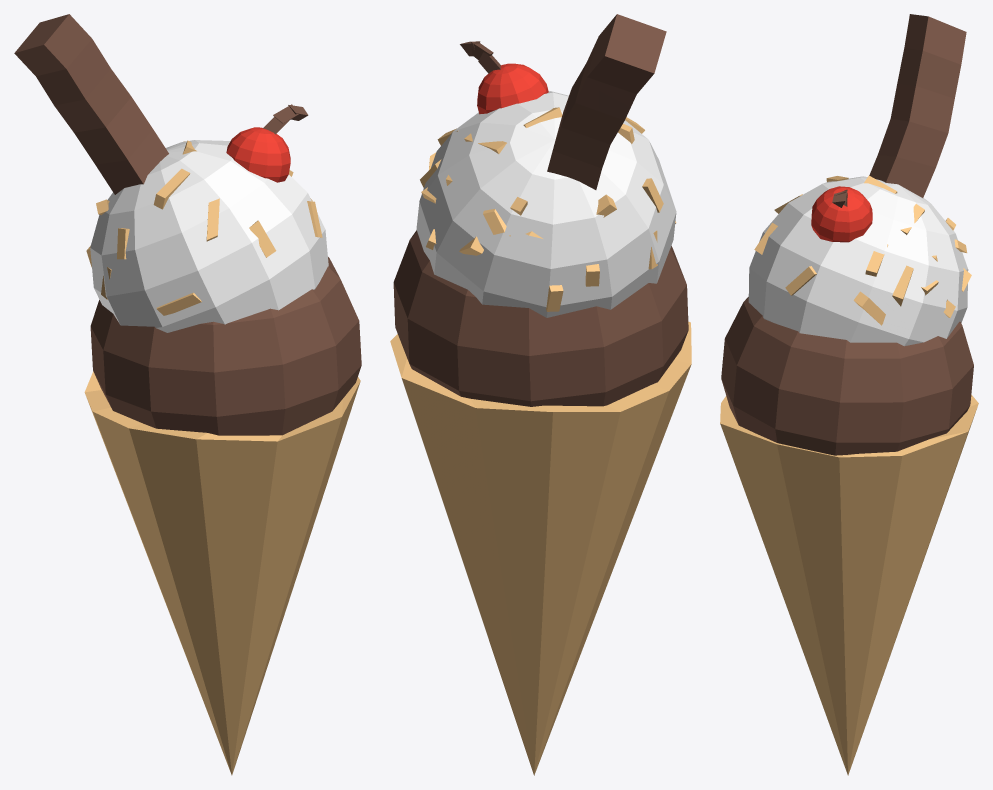
File: icecream.glb
3 renders of one model, left to right at view 1: azimuth 30°, elevation 25°; view 2: azimuth 150°, elevation 25°; view 3: azimuth 270°, elevation 25°, orthographic. The views are drawn at different scales.
Visible parts, largest first — view 1: group1997454870, group1681677598, group673533001, group875348989, group1464667501; view 2: group1997454870, group1681677598, group673533001, group875348989, group1464667501; view 3: group1997454870, group673533001, group1681677598, group875348989, group1464667501.
Part boxes in pixels (x1=…): group1997454870: x1=84, y1=371, x2=360, y2=775; group1681677598: x1=90, y1=140, x2=328, y2=332; group673533001: x1=90, y1=257, x2=361, y2=435; group875348989: x1=14, y1=14, x2=168, y2=194; group1464667501: x1=226, y1=127, x2=290, y2=182; group1997454870: x1=390, y1=321, x2=691, y2=775; group1681677598: x1=416, y1=91, x2=676, y2=317; group673533001: x1=393, y1=230, x2=688, y2=406; group875348989: x1=547, y1=14, x2=666, y2=189; group1464667501: x1=477, y1=63, x2=548, y2=114; group1997454870: x1=720, y1=394, x2=978, y2=775; group673533001: x1=721, y1=297, x2=973, y2=455; group1681677598: x1=748, y1=176, x2=968, y2=346; group875348989: x1=869, y1=14, x2=966, y2=197; group1464667501: x1=811, y1=186, x2=872, y2=242.
Bounding box in the file's own units: 0.1851 × 0.4891 × 0.1626.
